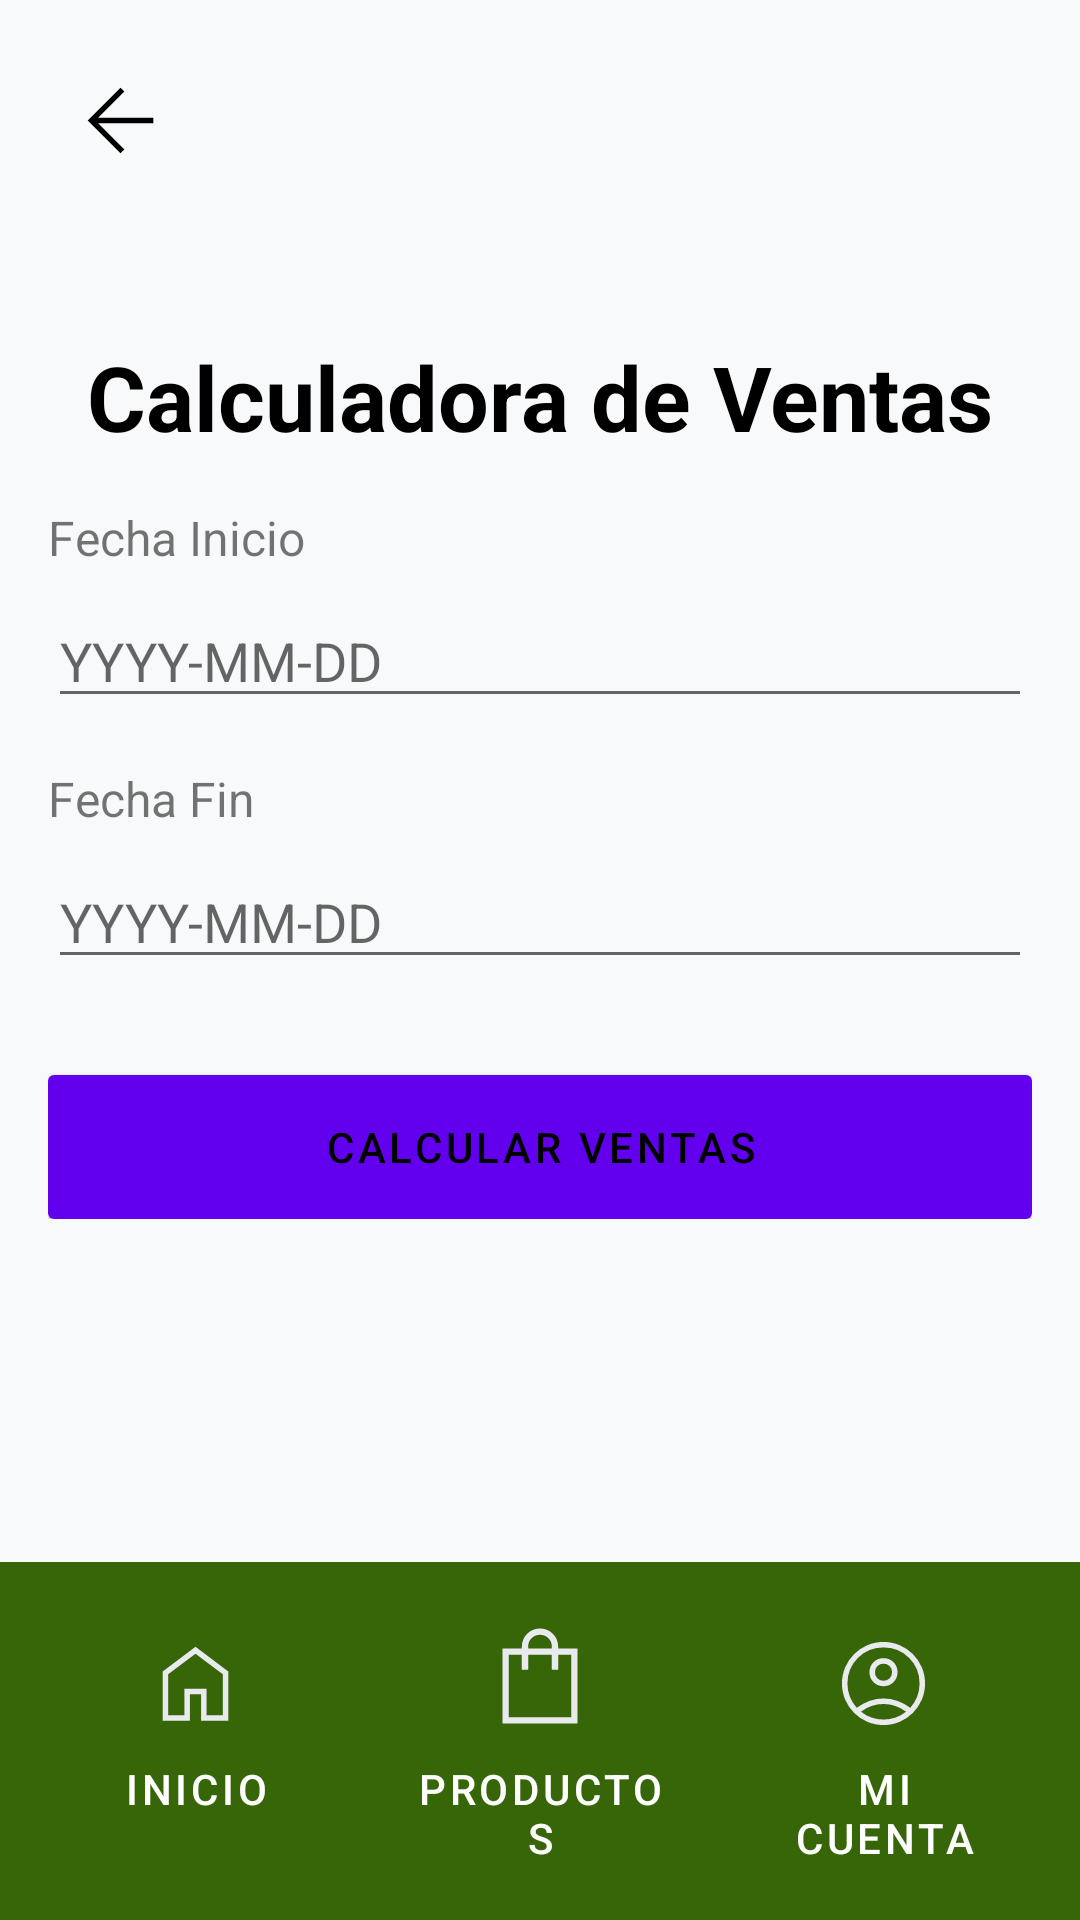

Named icons in this screenshot (1080 × 1920) and their bounding boxes, (x1, y1, x2, y2):
Volver: (88, 88, 154, 153)
